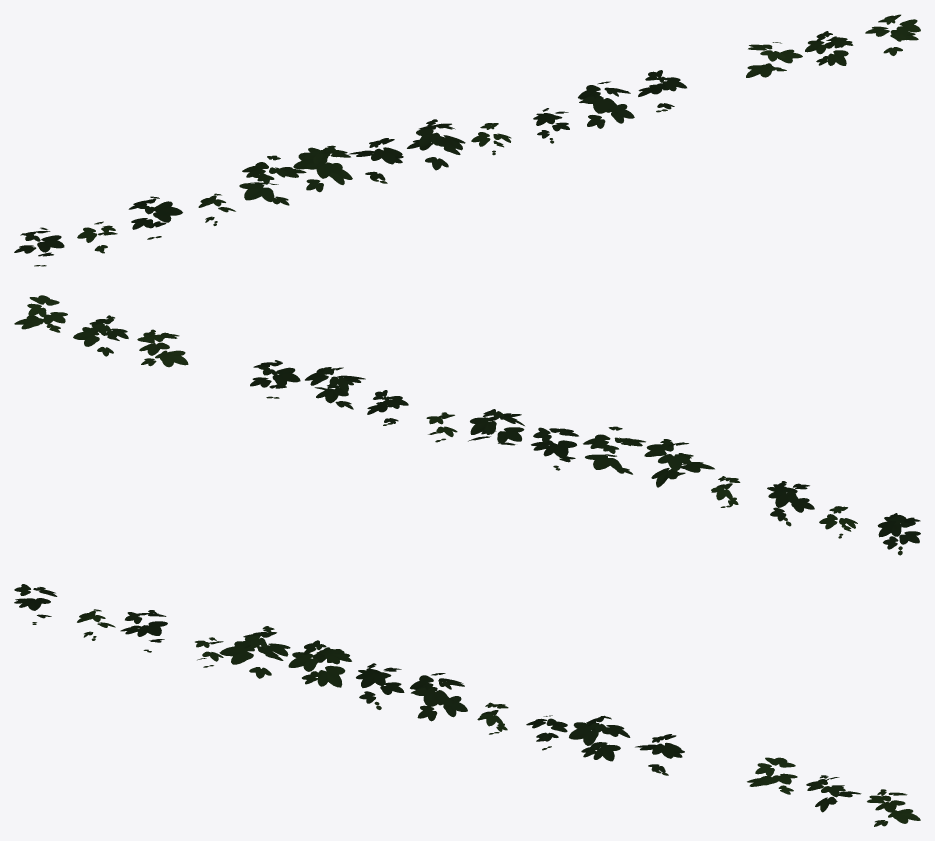
Rendered from ROW_17_SEG3_foliage.dae.
The picture shows the model from 3 angles, top to bottom: view 1: azimuth 30°, elevation 25°; view 2: azimuth 150°, elevation 25°; view 3: azimuth 330°, elevation 25°; orthographic projection.
Visible parts, largest first — view 1: ROW_17_SEG3_foliage; view 2: ROW_17_SEG3_foliage; view 3: ROW_17_SEG3_foliage.
Part boxes in pixels (x1=…): ROW_17_SEG3_foliage: x1=14, y1=14, x2=920, y2=266; ROW_17_SEG3_foliage: x1=14, y1=295, x2=920, y2=555; ROW_17_SEG3_foliage: x1=14, y1=584, x2=920, y2=826.
Size of the model in its own units: 4.84 by 0.3567 by 0.275.
